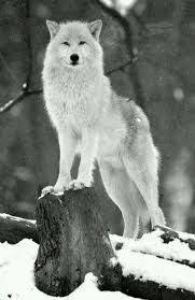wolf: (41, 11, 173, 247)
